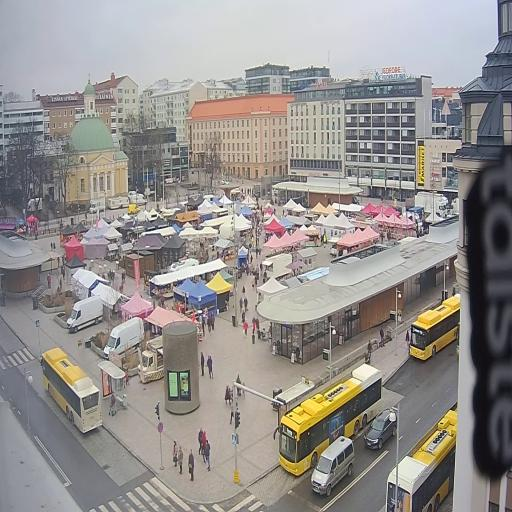bus: (279, 364, 383, 475), (386, 403, 457, 512), (40, 347, 102, 432), (410, 294, 460, 360)
car: (311, 436, 355, 496), (364, 411, 397, 449)
delivery: (103, 317, 144, 359), (67, 296, 103, 332), (138, 336, 163, 383), (415, 192, 450, 217)
